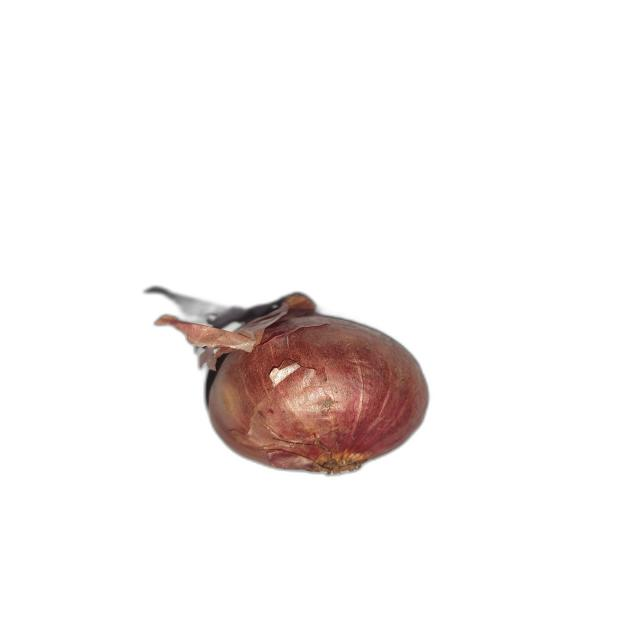onion: (157, 292, 431, 476)
